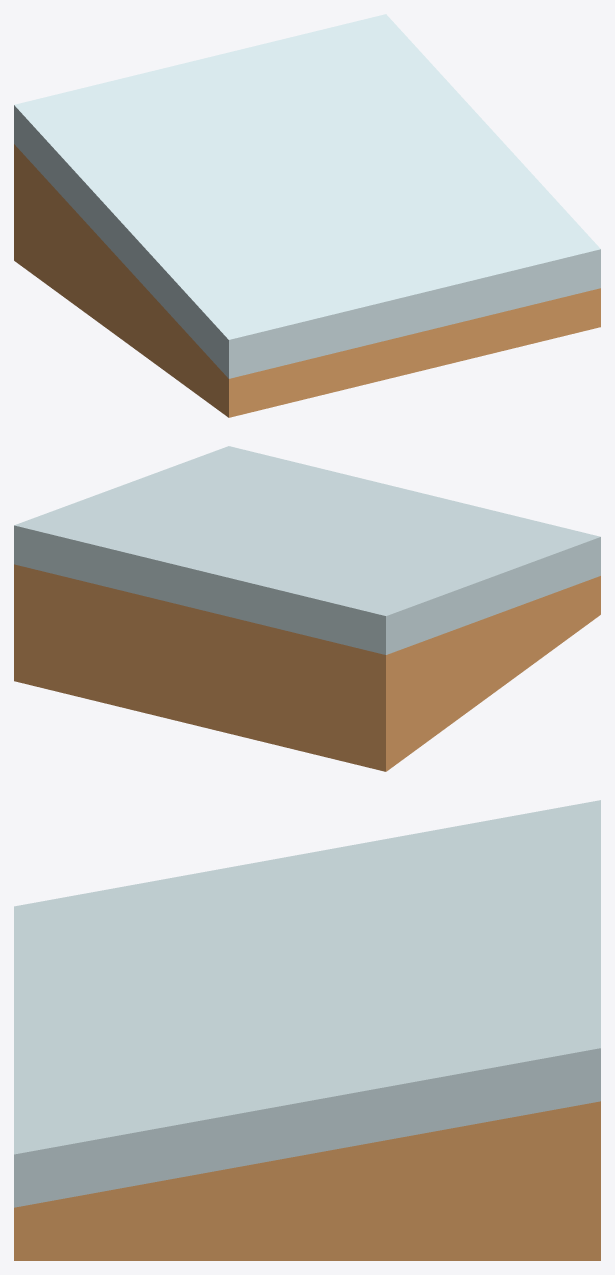
Rendered from snow_tile_slope.dae.
The picture shows the model from 3 angles, top to bottom: view 1: azimuth 30°, elevation 25°; view 2: azimuth 150°, elevation 25°; view 3: azimuth 270°, elevation 25°; orthographic projection. The views are drawn at different scales.
Visible parts, largest first — view 1: snow_tile_slope; view 2: snow_tile_slope; view 3: snow_tile_slope.
Part boxes in pixels (<box>): snow_tile_slope: <box>14,14,600,417</box>; snow_tile_slope: <box>14,446,600,771</box>; snow_tile_slope: <box>14,800,600,1260</box>.
Bounding box in the file's own units: 1 × 0.4 × 1.
